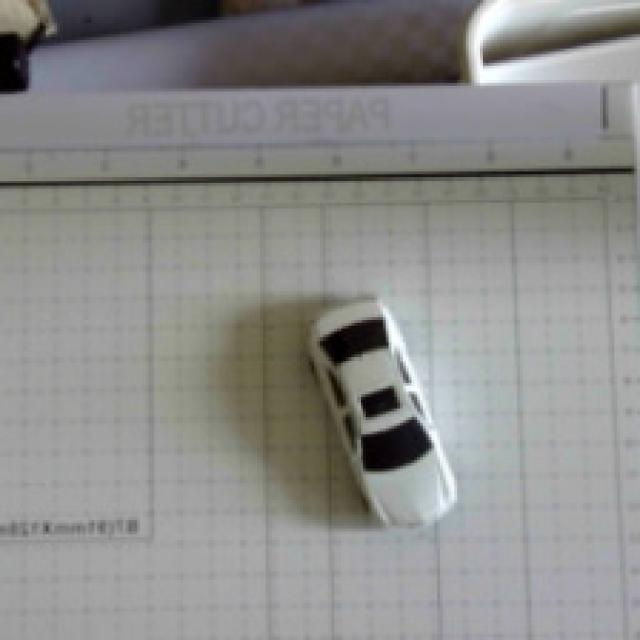Grey Car: (237, 267, 502, 562)
